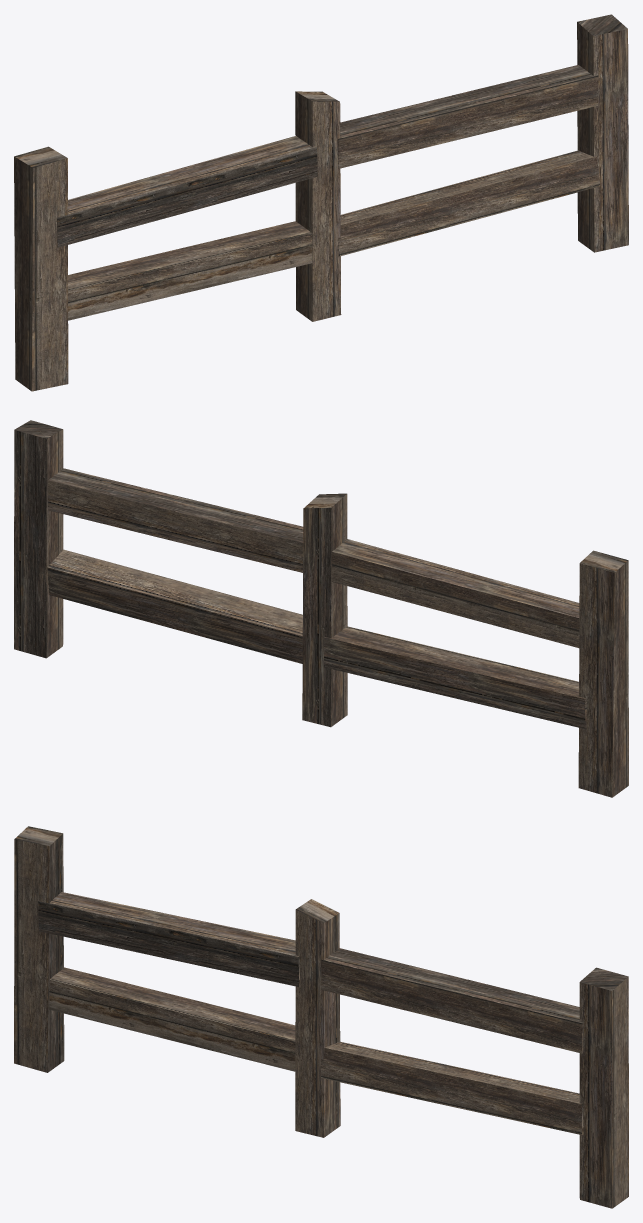
Rendered from realfence.glb.
3 views of the same model, one above another, from view 1: azimuth 30°, elevation 25°; view 2: azimuth 150°, elevation 25°; view 3: azimuth 330°, elevation 25° (orthographic).
Parts seen in each view (by area): view 1: Object_2; view 2: Object_2; view 3: Object_2.
Part boxes in pixels (<box>): Object_2: <box>14,14,628,391</box>; Object_2: <box>14,420,628,797</box>; Object_2: <box>14,826,628,1208</box>.
Bounding box in the file's own units: 2.9 × 1.04 × 0.1564.
Materials: 1 (1 with a texture image).
